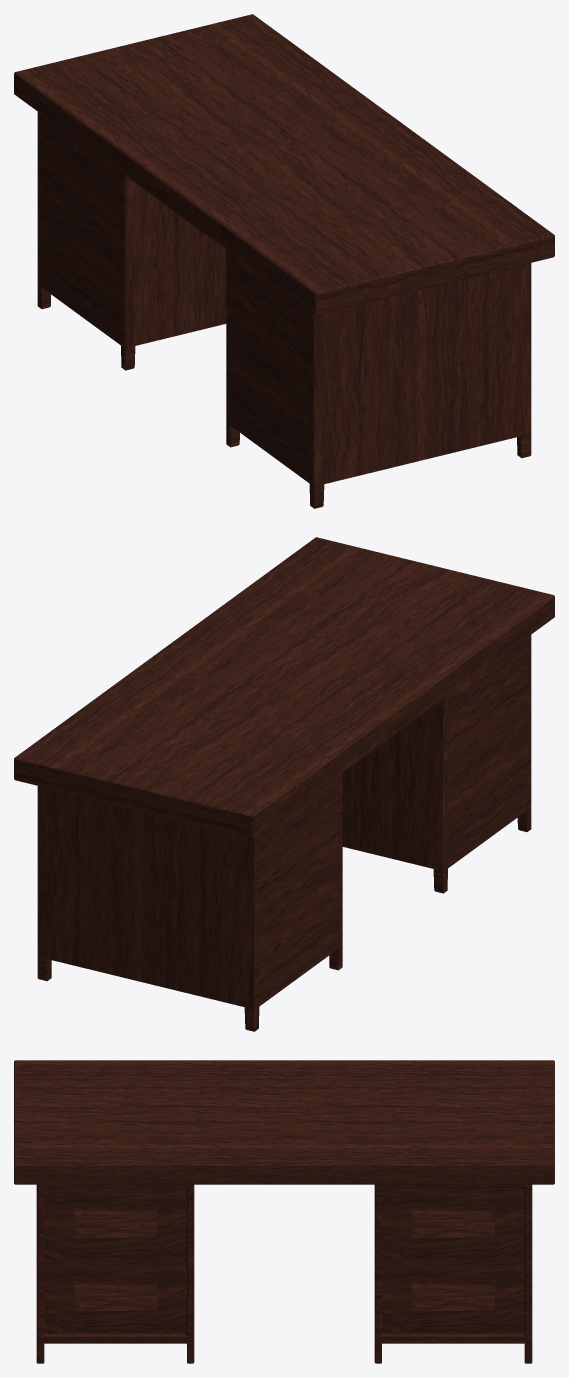
The model's file is VeteraphoneDesk.gltf.
3 views of the same model, one above another, from view 1: azimuth 30°, elevation 25°; view 2: azimuth 150°, elevation 25°; view 3: azimuth 270°, elevation 25° (orthographic). The views are drawn at different scales.
Parts seen in each view (by area): view 1: Cube; view 2: Cube; view 3: Cube, Cube.002, Cube.005, Cube.003, Cube.004.
Part boxes in pixels (x1,y1,x2,y2): Cube: [14, 14, 554, 508]; Cube: [14, 537, 554, 1031]; Cube: [14, 1060, 554, 1363]; Cube.002: [44, 1260, 186, 1333]; Cube.005: [382, 1260, 524, 1333]; Cube.003: [44, 1188, 186, 1260]; Cube.004: [382, 1188, 524, 1260].
Bounding box in the file's own units: 2.86 × 2.6 × 6.24.
1 material, 1 textured.
